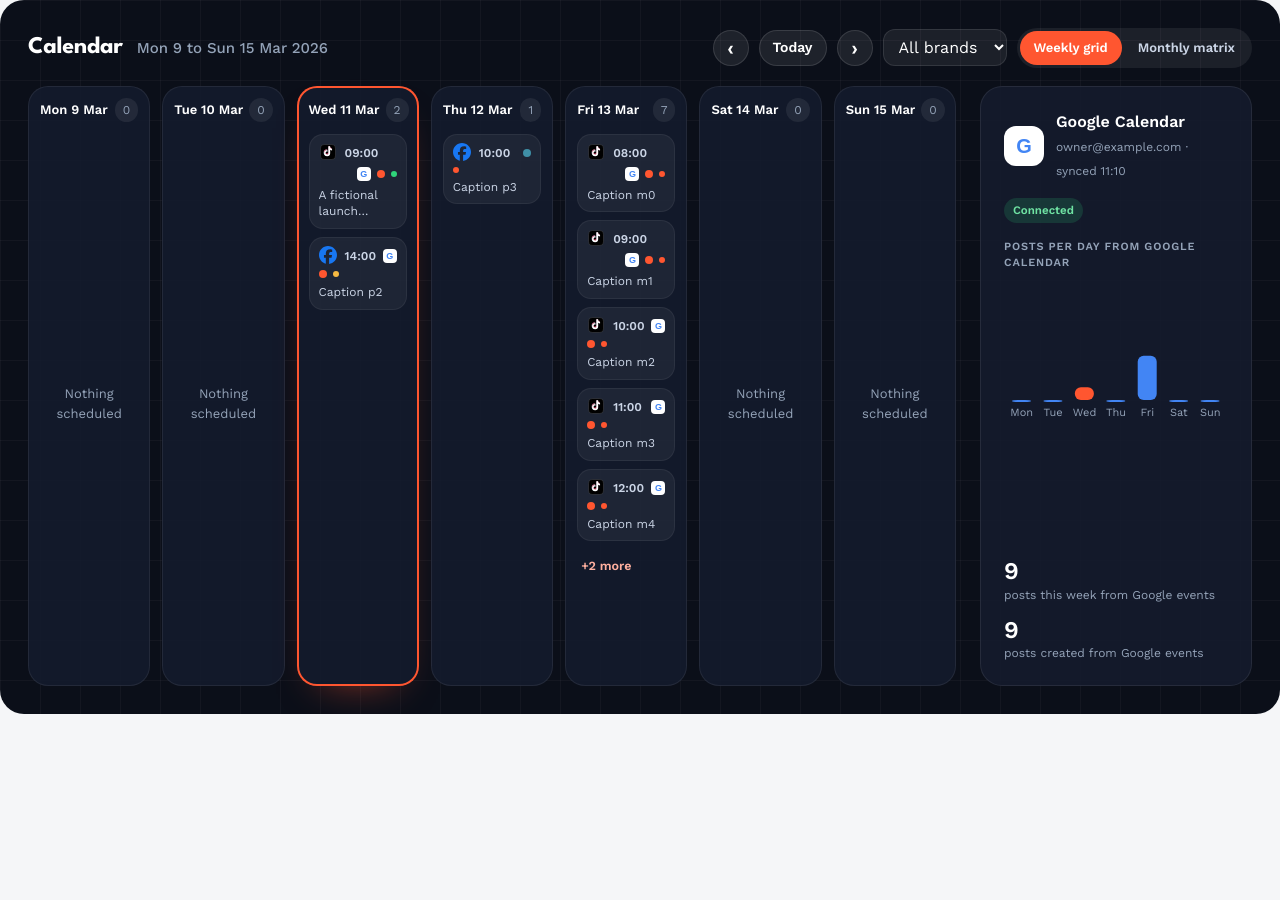
Test case: monthly matrix › switches inline to the month with a cell for every day and the post counts
Click the button "Monthly matrix": [1186, 48] box top-left (1124, 31), bottom-right (1249, 64)
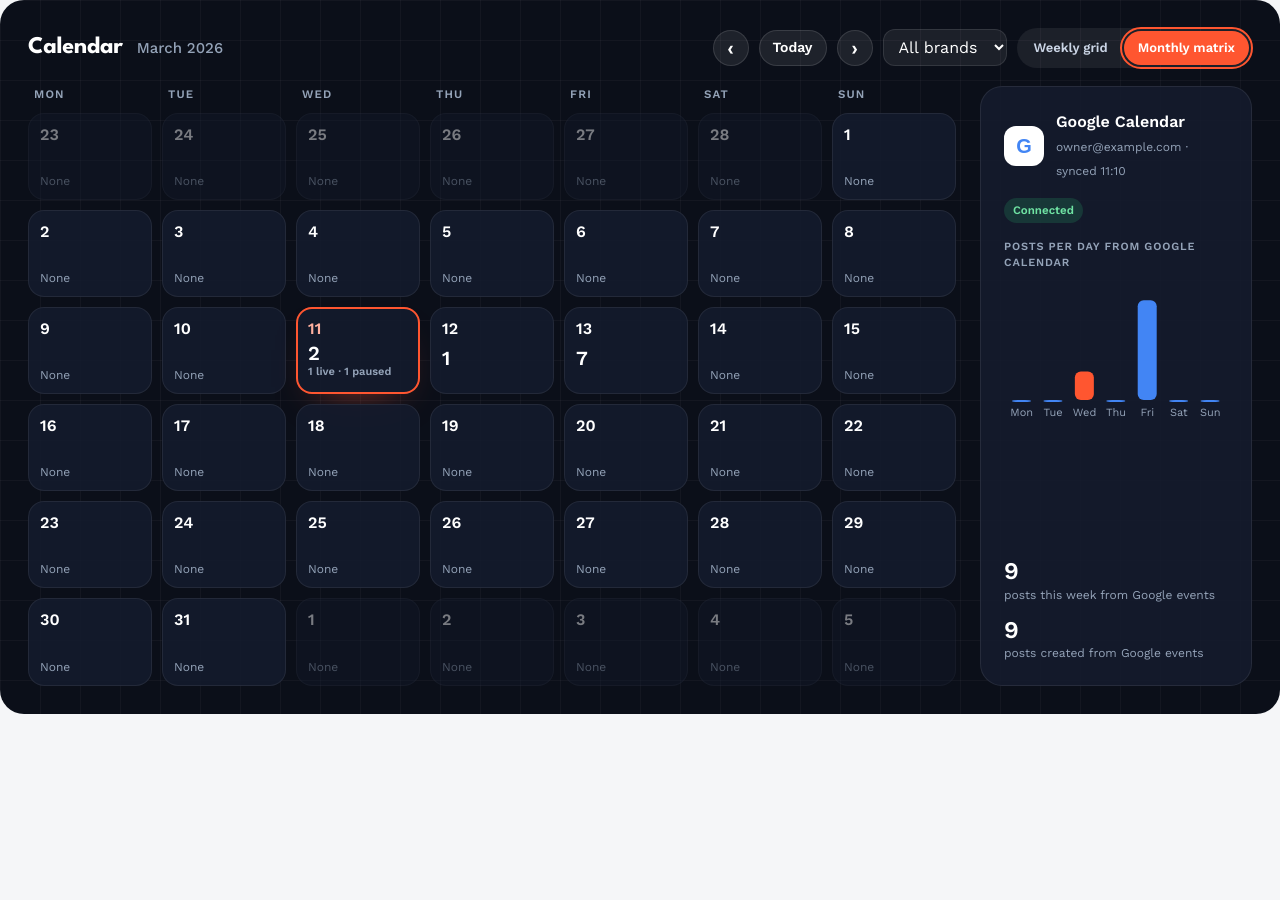
Now the text "March 2026" is shown, box top-left (137, 37), bottom-right (223, 60)
Now the button with test id "cw-cell-2026-03-13" shows "7", box top-left (564, 307), bottom-right (688, 394)
